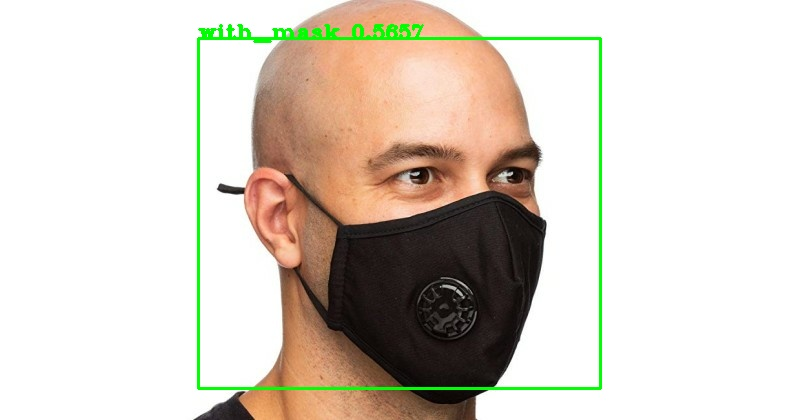with_mask: (245, 17, 551, 408)
